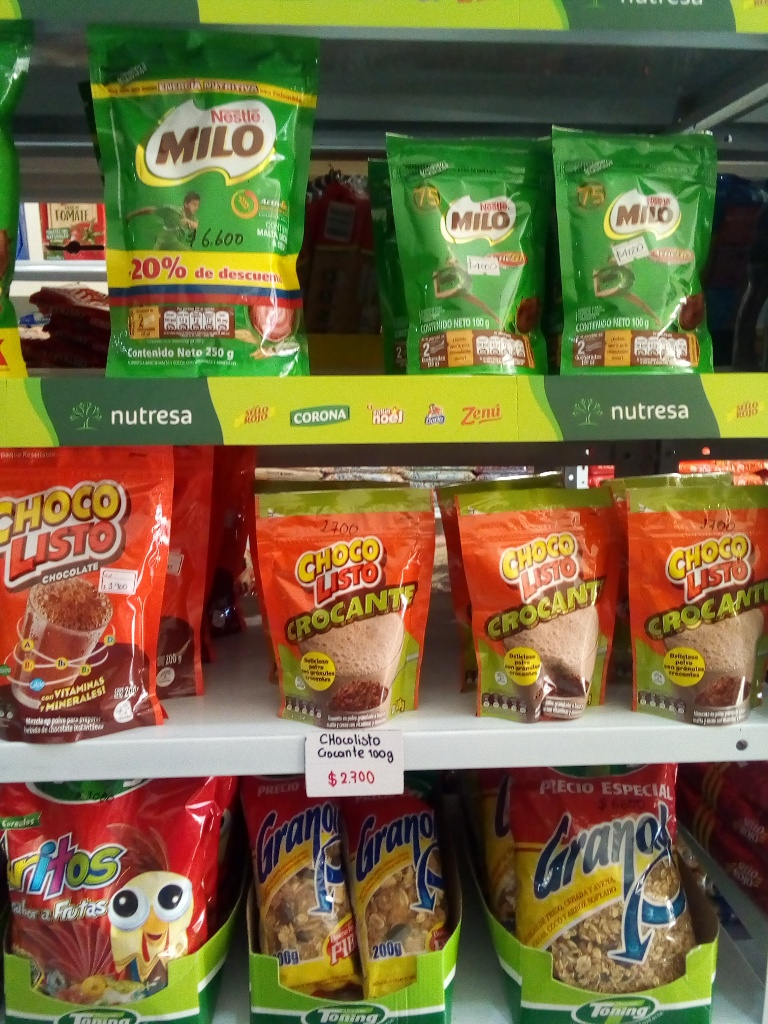COL0170102DYP10000: (262, 490, 443, 726)
COL0170103DYP20000: (1, 451, 196, 739)
COL0170203DYP10000: (391, 134, 555, 375)
COL0170203DYP25000: (89, 31, 324, 374)
